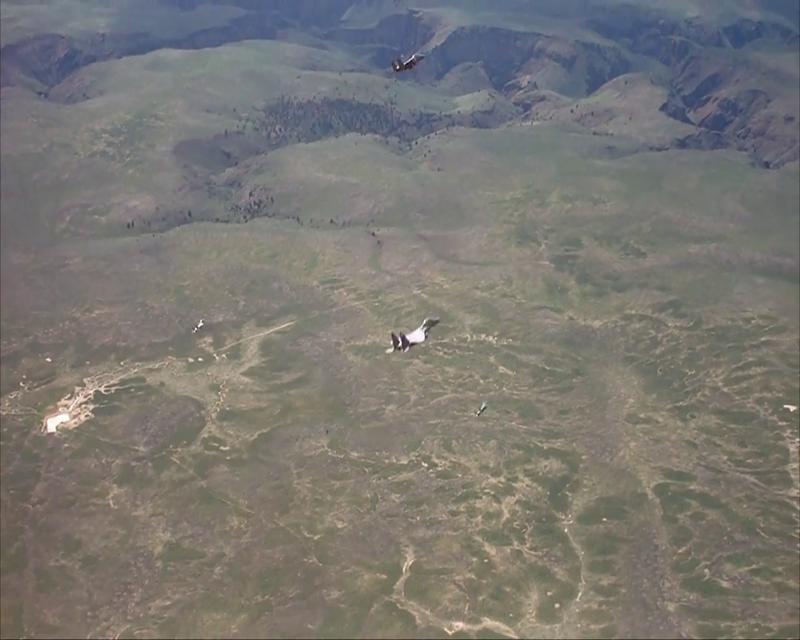UAV: (384, 315, 441, 354), (388, 48, 427, 73)
